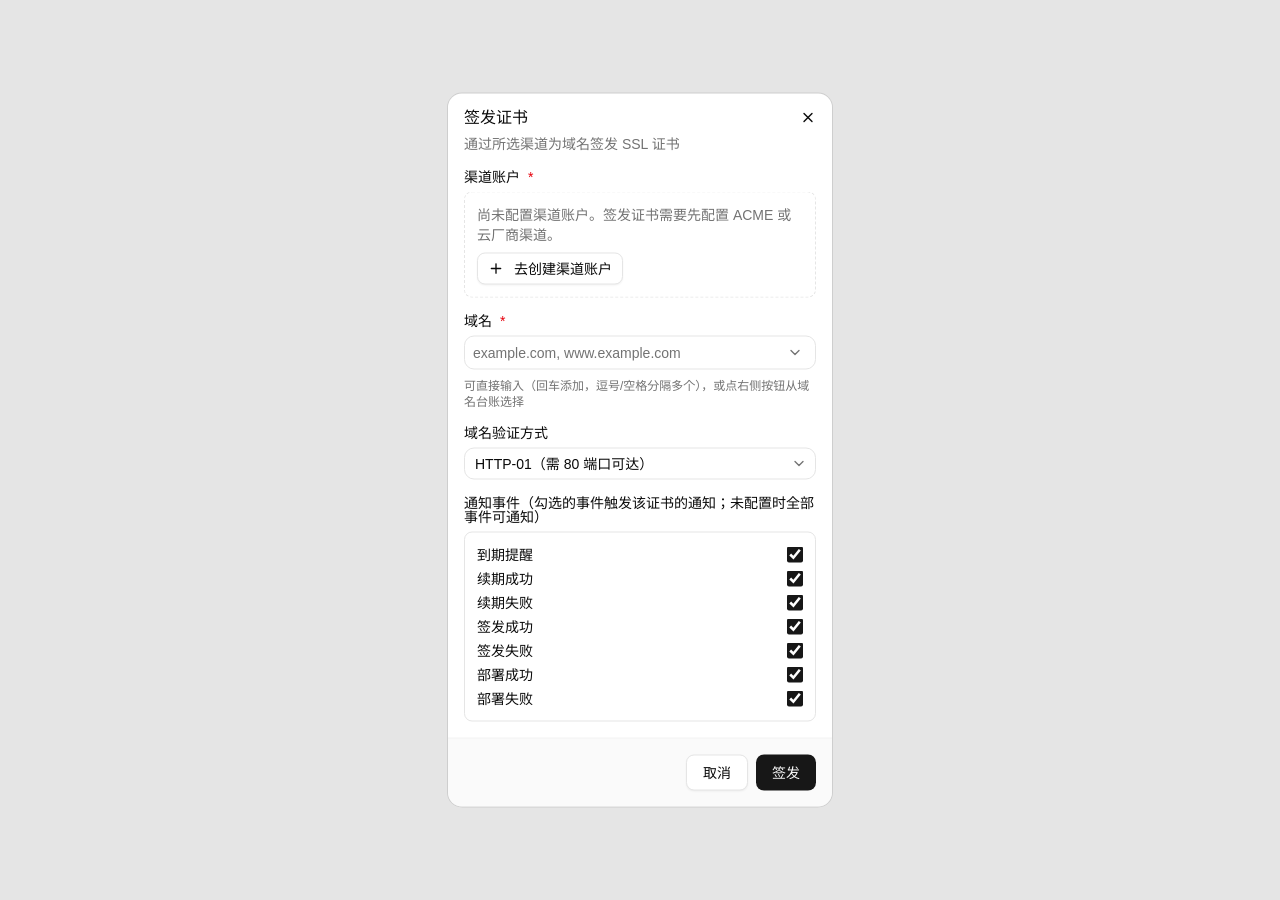
Test: IssueDialog CSR 模式与表单逻辑 › 渠道账户为空时显示创建引导并可跳转到渠道页
Expected: the heading "签发证书" is shown, [464, 108, 528, 126]
Expected: the text "尚未配置渠道账户。签发证书需要先配置 ACME 或云厂商渠道。" is shown, [477, 204, 803, 244]
点击后导航到渠道账户页（MemoryRouter 内验证路由跳转）
Step 1. Click the button "去创建渠道账户" → (550, 268), box [477, 252, 623, 284]
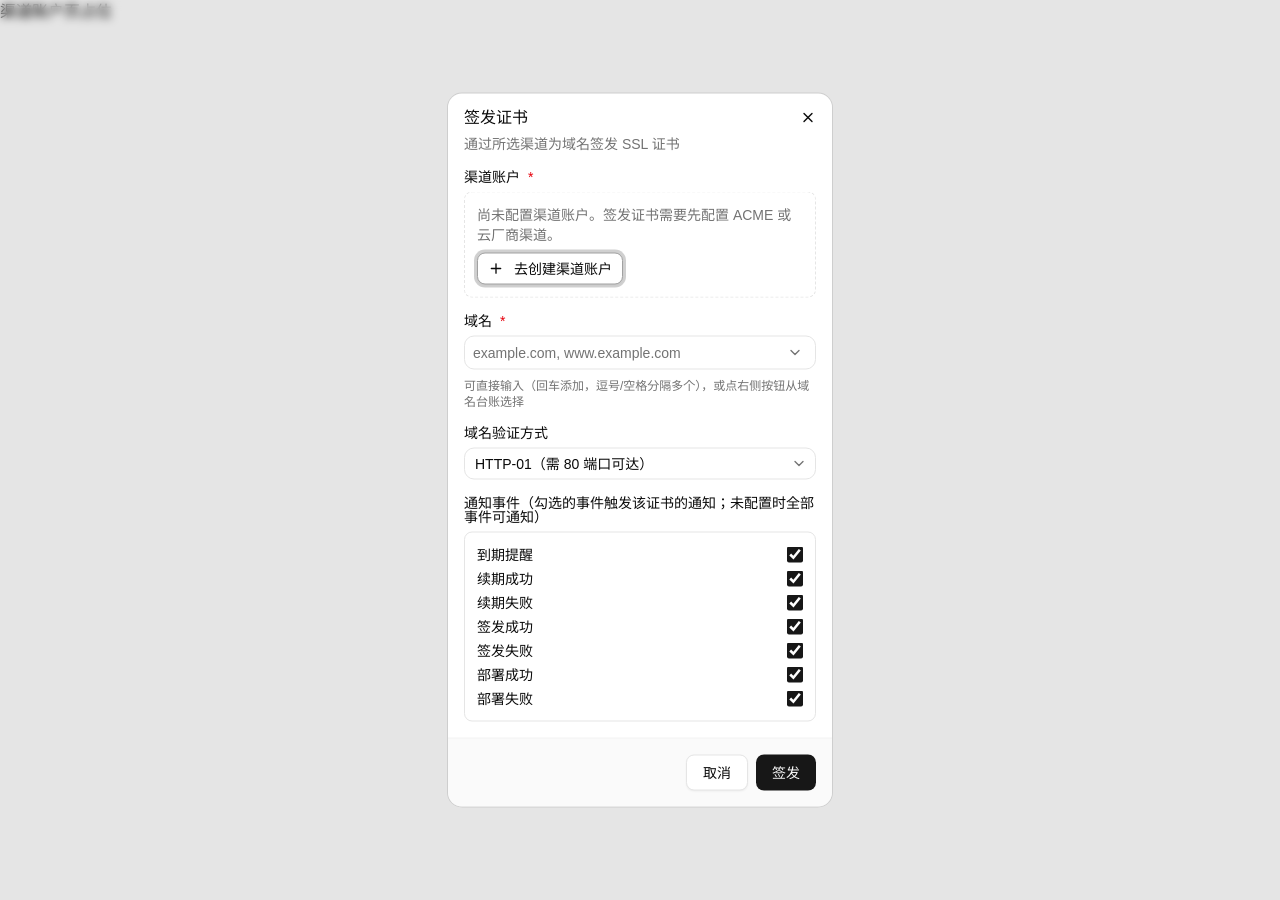
Now the text "渠道账户页占位" is shown, box [0, 3, 112, 20]
